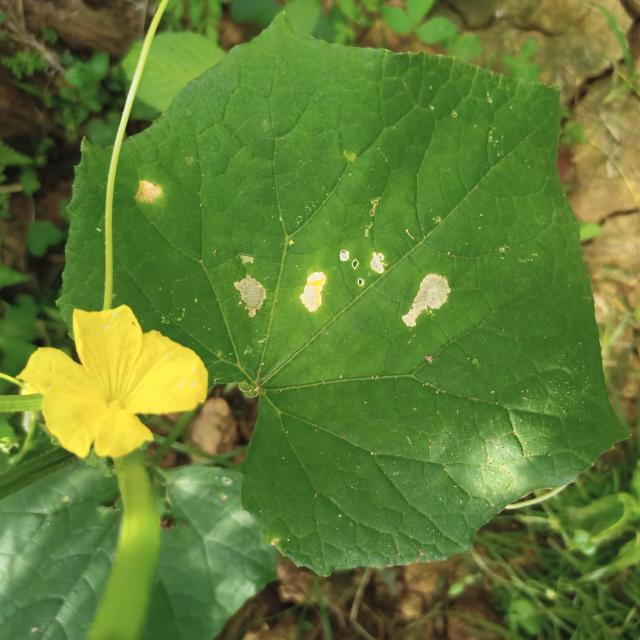disease_cucumber: (236, 250, 452, 328), (134, 178, 164, 207)
